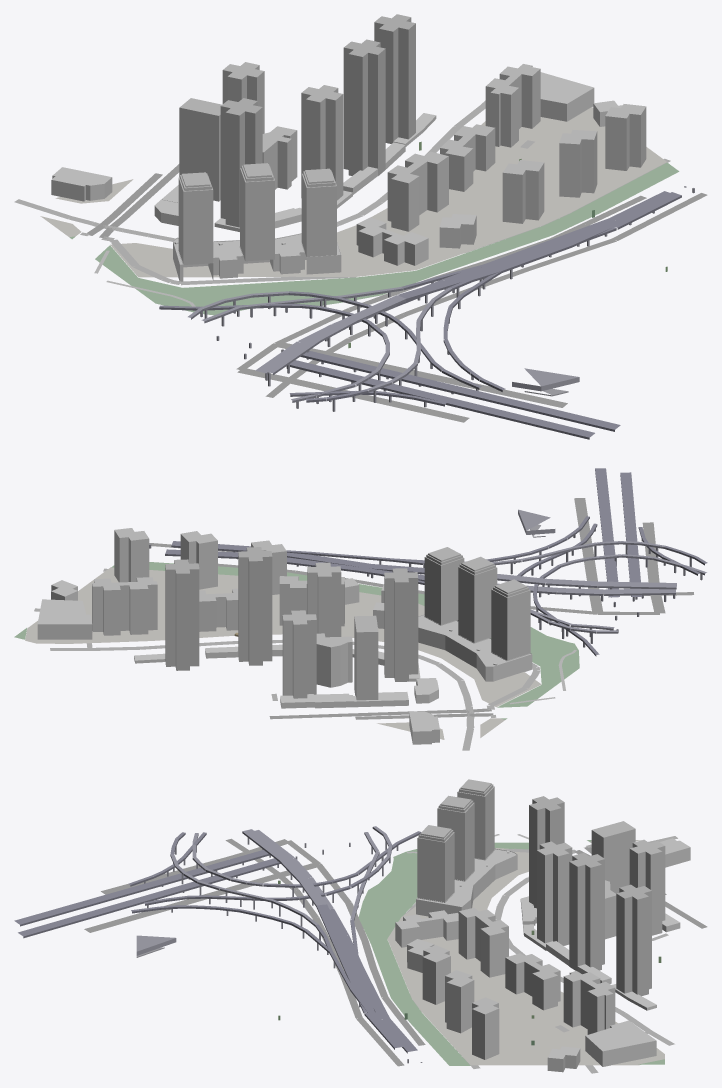
3 renders of one model, top to bottom at view 1: azimuth 30°, elevation 25°; view 2: azimuth 150°, elevation 25°; view 3: azimuth 270°, elevation 25°, orthographic. The views are drawn at different scales.
Size of the model in its own units: 533 by 127 by 657.
